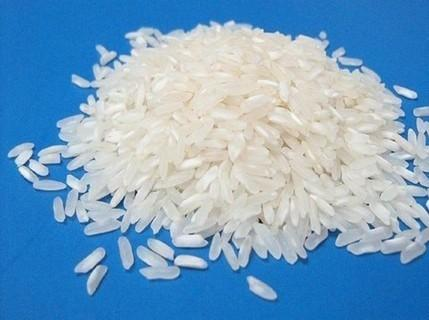WhiteRice: (7, 15, 429, 302)
